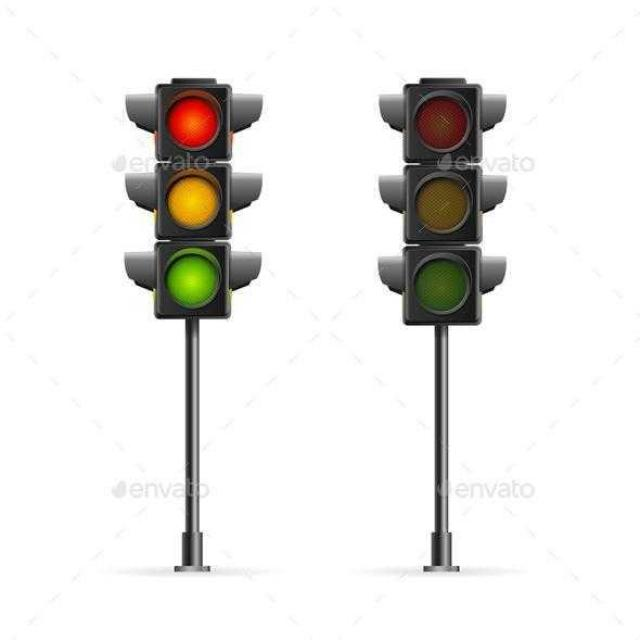Traffic Light -Green-: (155, 244, 232, 318)
Traffic Light -Off-: (404, 81, 482, 324)
Traffic Light -Red-: (151, 77, 236, 160)
Traffic Light -Yellow-: (155, 165, 234, 237)
